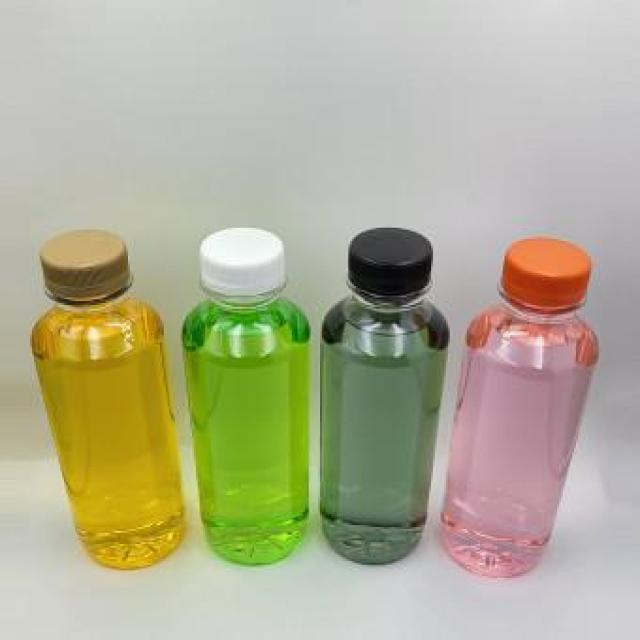bottle: (432, 237, 596, 578), (29, 234, 188, 574), (320, 219, 452, 558), (180, 228, 310, 566)
